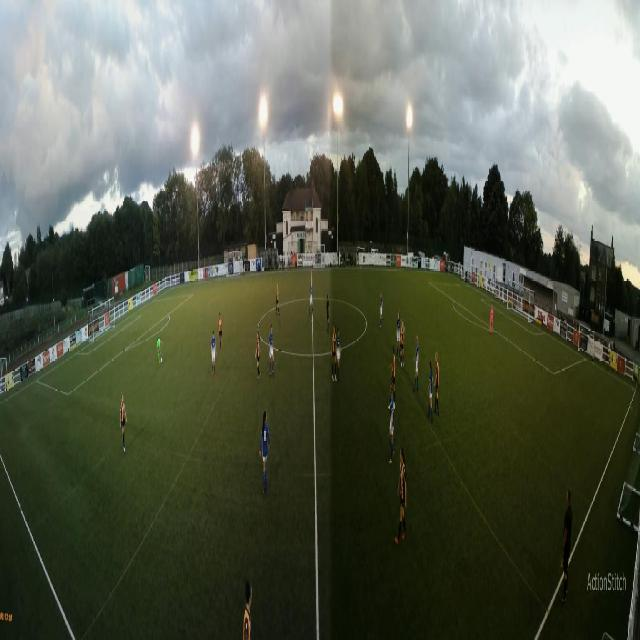ball: (159, 356, 163, 363)
player: (259, 403, 271, 495), (398, 446, 409, 540), (389, 384, 395, 460), (120, 394, 127, 456), (435, 351, 441, 420), (269, 322, 275, 376), (211, 328, 217, 377), (332, 323, 337, 381), (429, 362, 434, 420), (256, 328, 261, 380), (392, 343, 396, 405), (400, 317, 405, 365), (415, 335, 419, 389), (337, 327, 341, 379), (397, 311, 401, 363), (380, 289, 384, 330), (219, 313, 223, 349), (326, 294, 330, 329), (276, 284, 280, 318), (157, 334, 161, 363), (310, 282, 313, 317), (491, 304, 493, 336)
